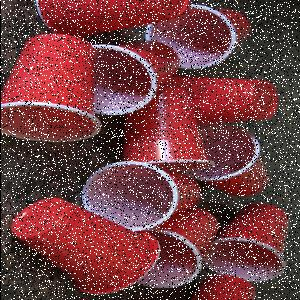Cup: (10, 198, 162, 297), (2, 33, 104, 144), (81, 162, 203, 233), (96, 33, 177, 135), (145, 6, 254, 72), (202, 205, 292, 284), (137, 209, 221, 291), (182, 126, 272, 199), (161, 76, 279, 126)
